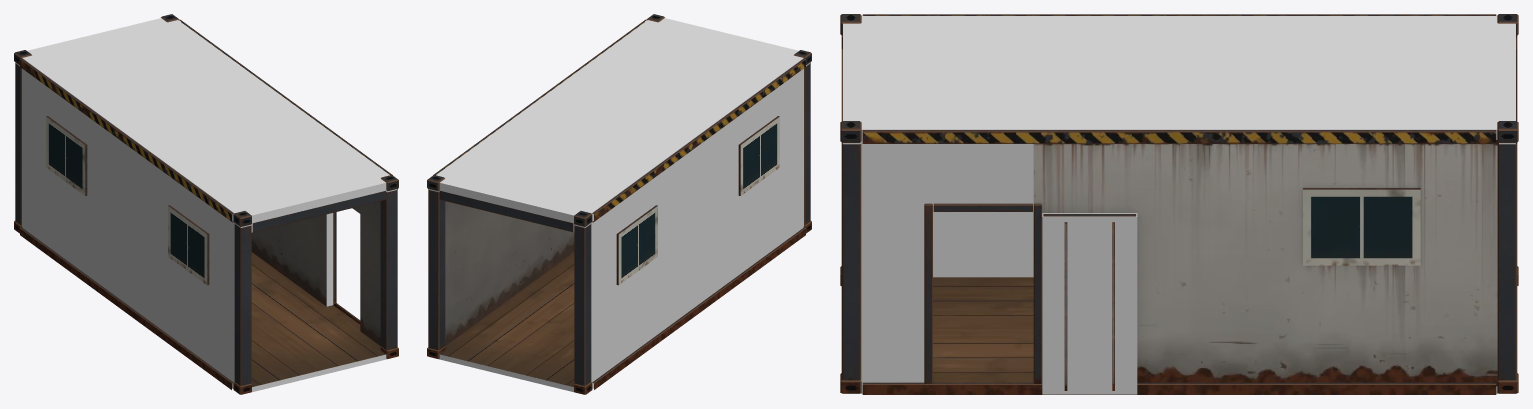
The model's file is Kit_Lot_Container20_01.glb.
3 renders of one model, left to right at view 1: azimuth 30°, elevation 25°; view 2: azimuth 150°, elevation 25°; view 3: azimuth 270°, elevation 25°, orthographic. The views are drawn at different scales.
Visible parts, largest first — view 1: Kit_Lot_Container20_01_LOD0, COL_Kit_Lot_Container20_01_1, COL_Kit_Lot_Container20_01_2, COL_Kit_Lot_Container20_01_0, COL_Kit_Lot_Container20_01_3; view 2: Kit_Lot_Container20_01_LOD0, COL_Kit_Lot_Container20_01_1, COL_Kit_Lot_Container20_01_2, COL_Kit_Lot_Container20_01_0; view 3: Kit_Lot_Container20_01_LOD0, COL_Kit_Lot_Container20_01_1, COL_Kit_Lot_Container20_01_6, COL_Kit_Lot_Container20_01_4, COL_Kit_Lot_Container20_01_2, COL_Kit_Lot_Container20_01_5.
Boxes of the visible parts, box(x1,y1,x2,y2) form: Kit_Lot_Container20_01_LOD0: box(14, 14, 398, 394); COL_Kit_Lot_Container20_01_1: box(22, 18, 389, 222); COL_Kit_Lot_Container20_01_2: box(16, 63, 240, 389); COL_Kit_Lot_Container20_01_0: box(251, 354, 386, 392); COL_Kit_Lot_Container20_01_3: box(326, 213, 333, 306); Kit_Lot_Container20_01_LOD0: box(427, 14, 811, 394); COL_Kit_Lot_Container20_01_1: box(436, 18, 803, 222); COL_Kit_Lot_Container20_01_2: box(585, 63, 809, 389); COL_Kit_Lot_Container20_01_0: box(439, 354, 574, 392); Kit_Lot_Container20_01_LOD0: box(840, 14, 1518, 394); COL_Kit_Lot_Container20_01_1: box(843, 16, 1515, 139); COL_Kit_Lot_Container20_01_6: box(1042, 213, 1137, 394); COL_Kit_Lot_Container20_01_4: box(860, 140, 932, 393); COL_Kit_Lot_Container20_01_2: box(933, 211, 1033, 277); COL_Kit_Lot_Container20_01_5: box(933, 144, 1033, 210).
Size of what is drawn, in the model's own units: 10.26 by 10.46 by 24.2.
1 material, 1 textured.
